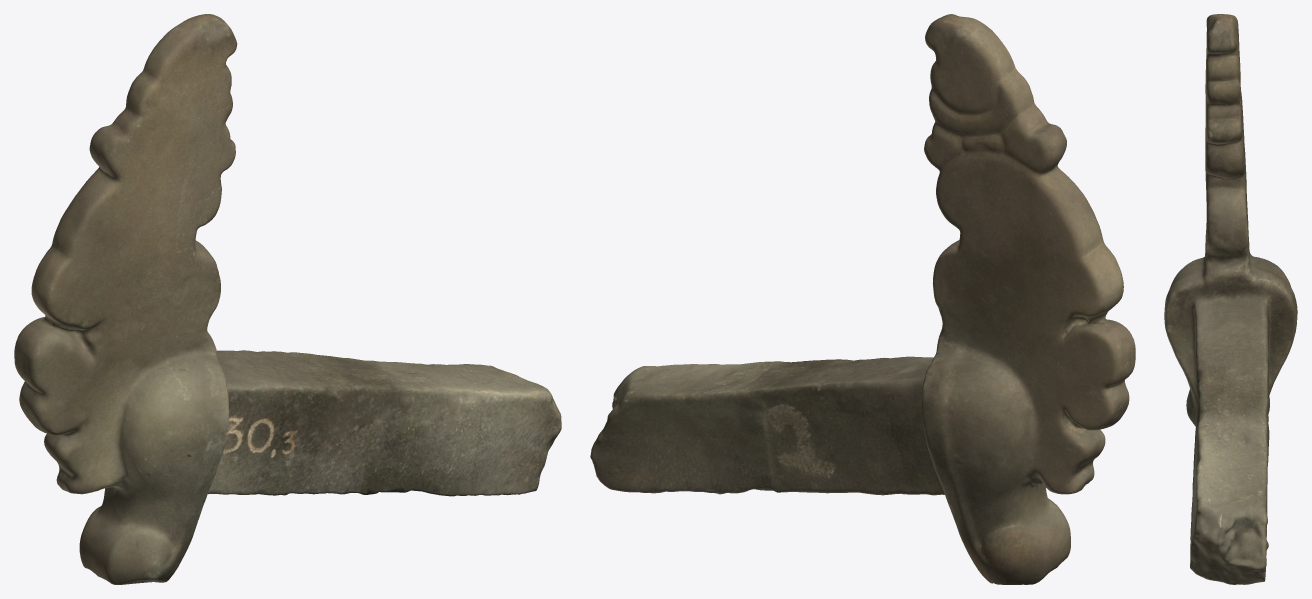
Rendered from 24_vattrangtri_final.glb.
3 views of the same model, side by side, from view 1: azimuth 30°, elevation 25°; view 2: azimuth 150°, elevation 25°; view 3: azimuth 270°, elevation 25° (orthographic). The views are drawn at different scales.
Size of the model in its own units: 0.7598 by 0.7508 by 0.2051.
1 material, 1 textured.
